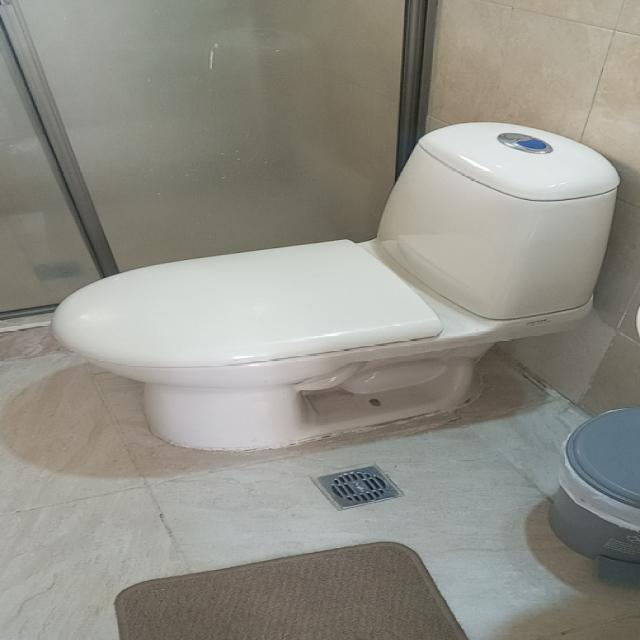toilet: (50, 120, 620, 452)
